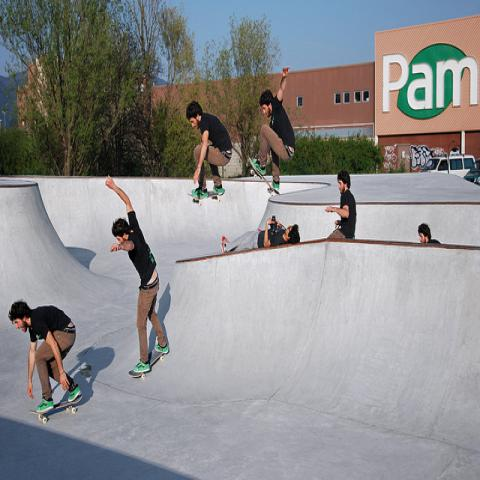car: (419, 153, 476, 179), (466, 158, 479, 186)
